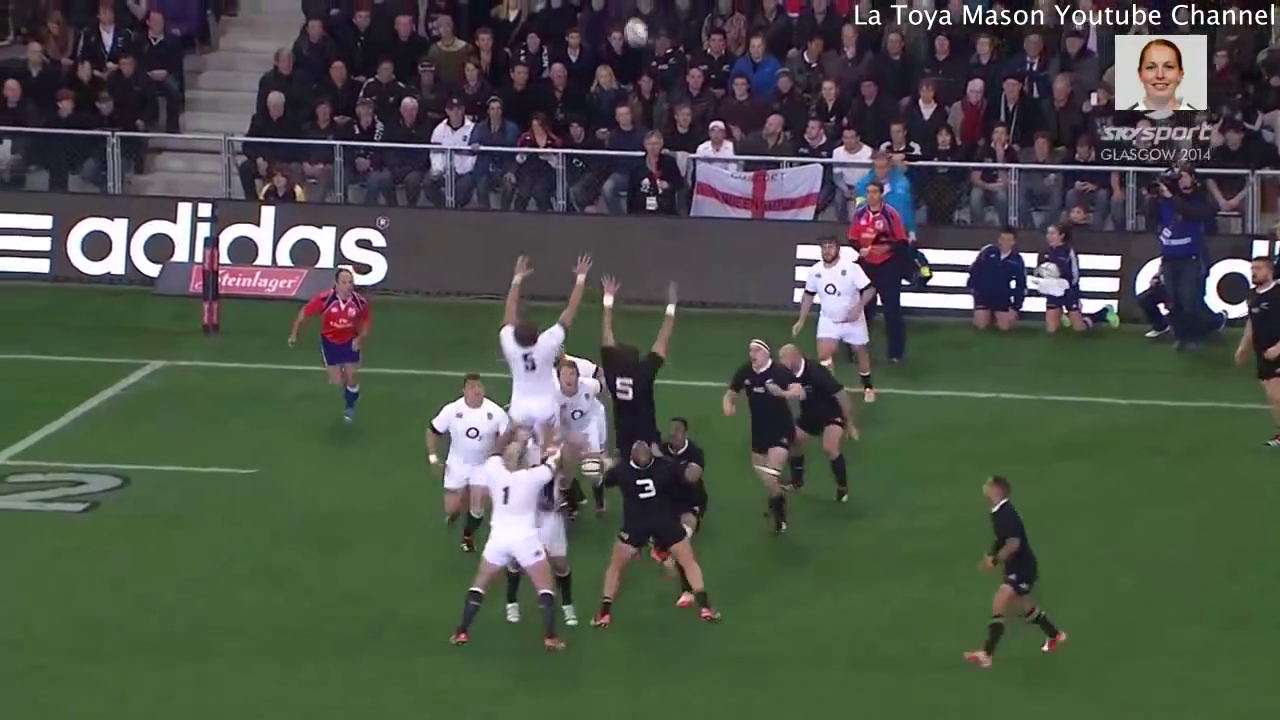ball: (613, 8, 661, 62)
lineout: (385, 195, 872, 662)
player: (585, 436, 727, 635), (447, 444, 565, 654), (957, 472, 1077, 678), (494, 245, 601, 457), (786, 232, 887, 413), (422, 368, 513, 559), (720, 332, 803, 540), (279, 266, 381, 422), (594, 270, 677, 448), (771, 342, 858, 511), (548, 359, 612, 526), (657, 416, 713, 532)
